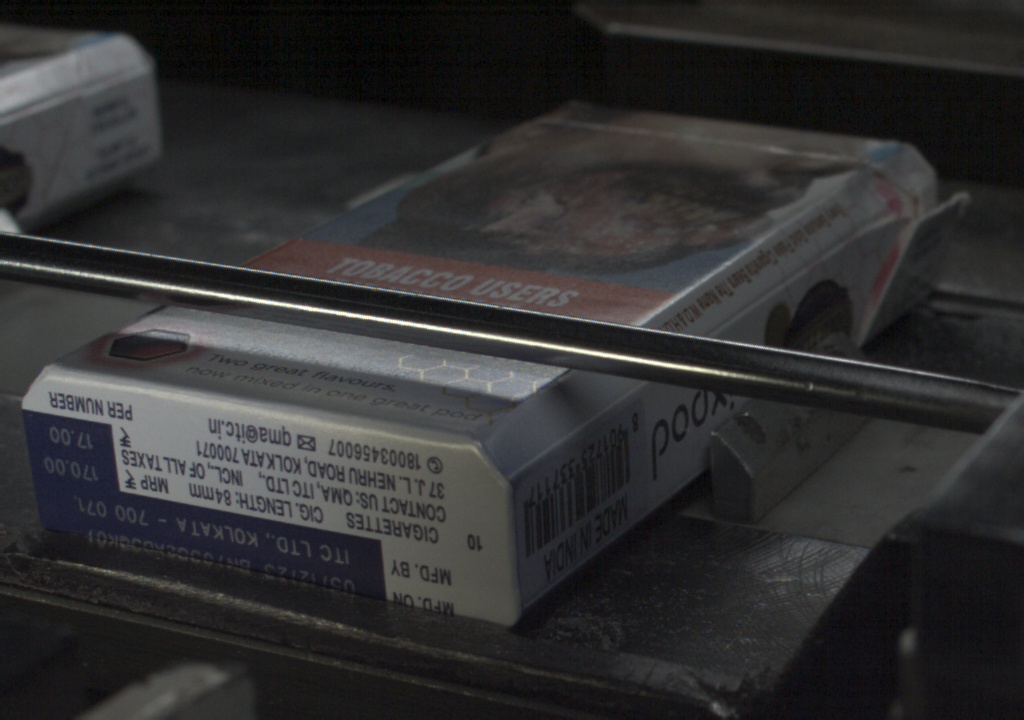g_bottom: (20, 369, 517, 634)
g_label: (31, 491, 384, 599)
g_lmiter: (713, 267, 803, 332), (802, 211, 886, 266), (570, 378, 644, 426), (506, 426, 570, 473)
ng_miter: (893, 172, 950, 246)
price: (29, 418, 118, 490)
